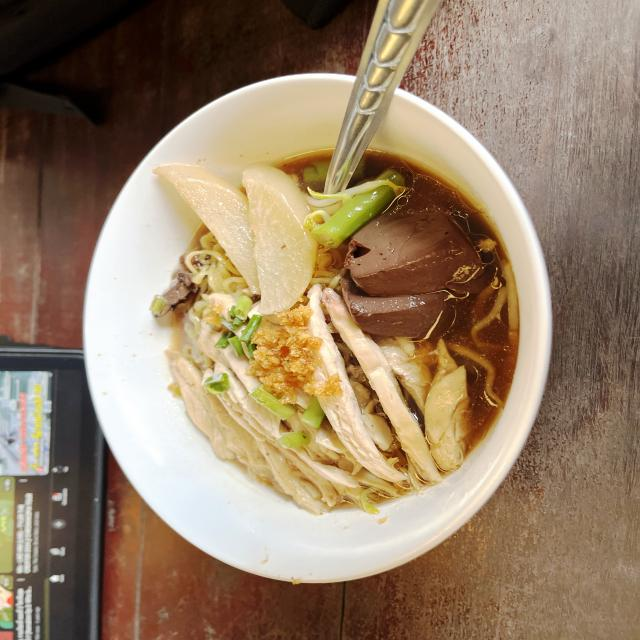boiled_chicken_blood_jelly: (343, 208, 472, 328)
chicken_shredded: (173, 309, 468, 488)
daikon_radish: (156, 158, 312, 304)
noodle: (138, 149, 540, 514)
